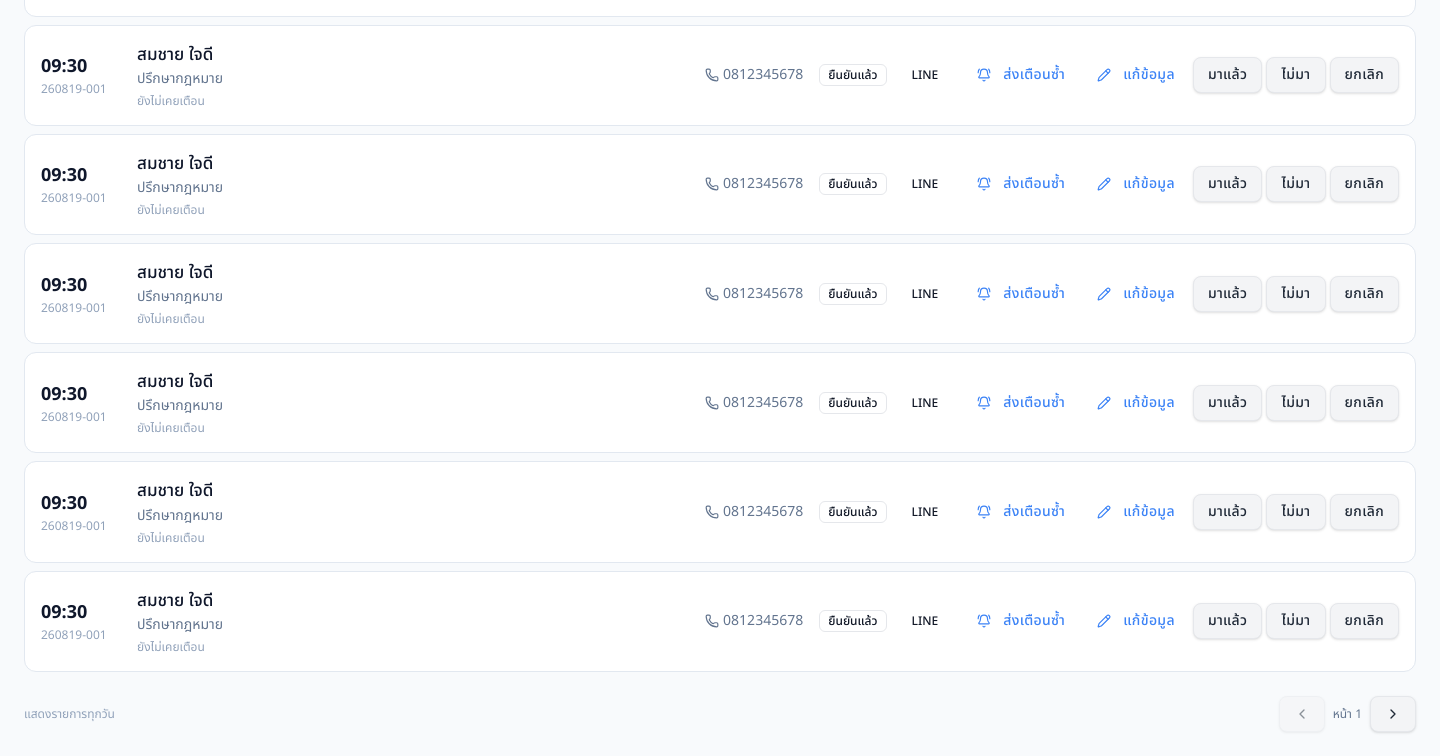
search, service filter and pagination › pages forward through a full page of results
This screenshot has width=1440, height=756.
(page scrolled)
Click the button named "หน้าถัดไป". click: (1393, 714)
box: [1370,696,1416,732]
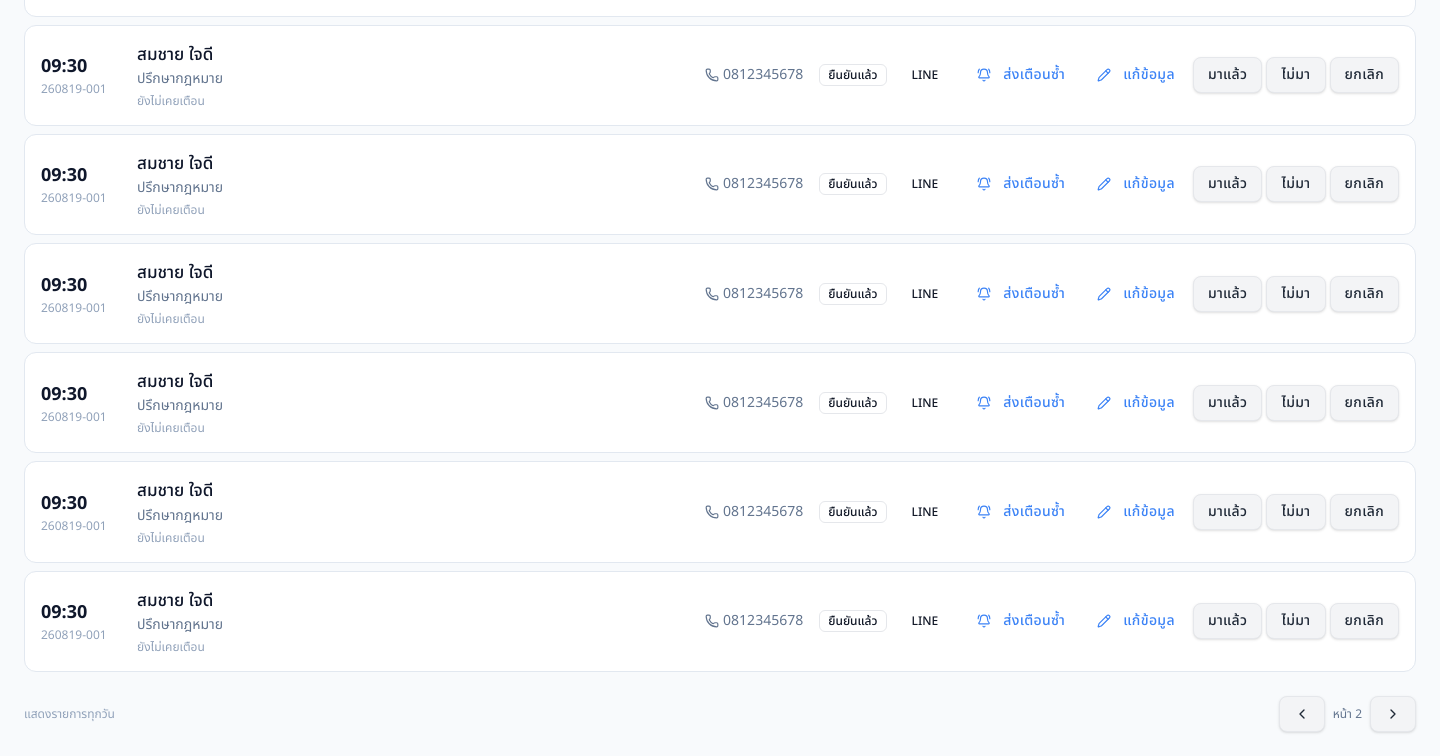
expect the text "หน้า 2" is shown: met, box [1333,706,1362,722]
